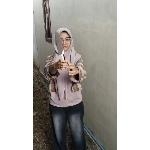Pisau: (52, 30, 66, 66)
